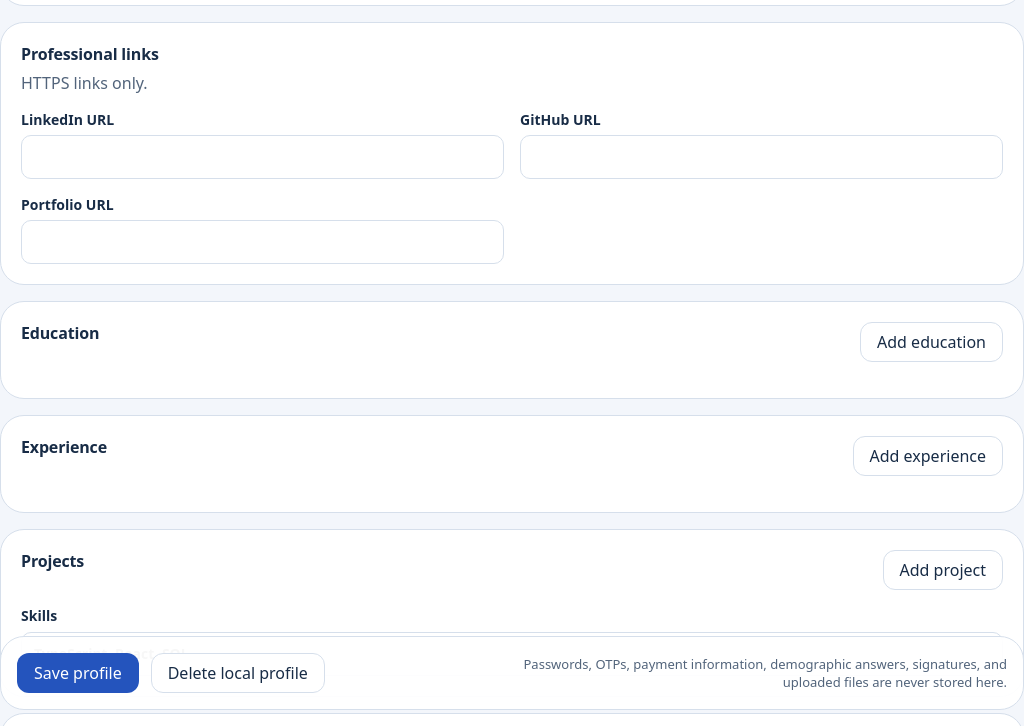
ProfilePage › adds structured education and skills without demographic fields
The width and height of the screenshot is (1024, 726).
(page scrolled)
Click the button "Add education" at (932, 342), box [860, 322, 1003, 362]
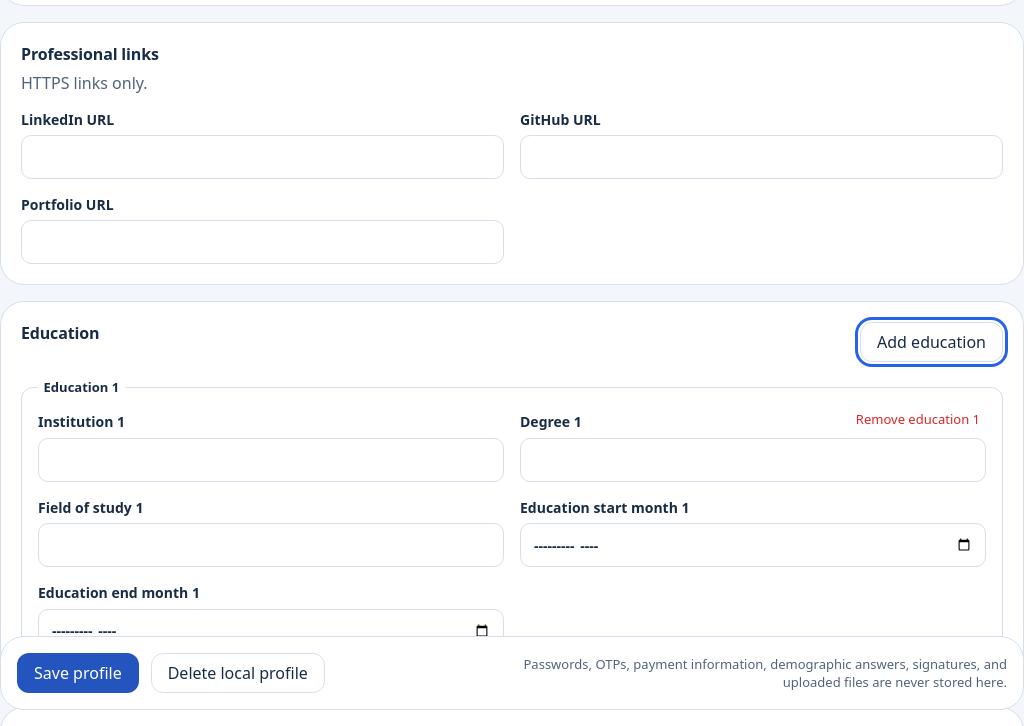
Type "HKU" into the field labelled "Institution 1" at (271, 460), box [38, 438, 504, 482]
(page scrolled)
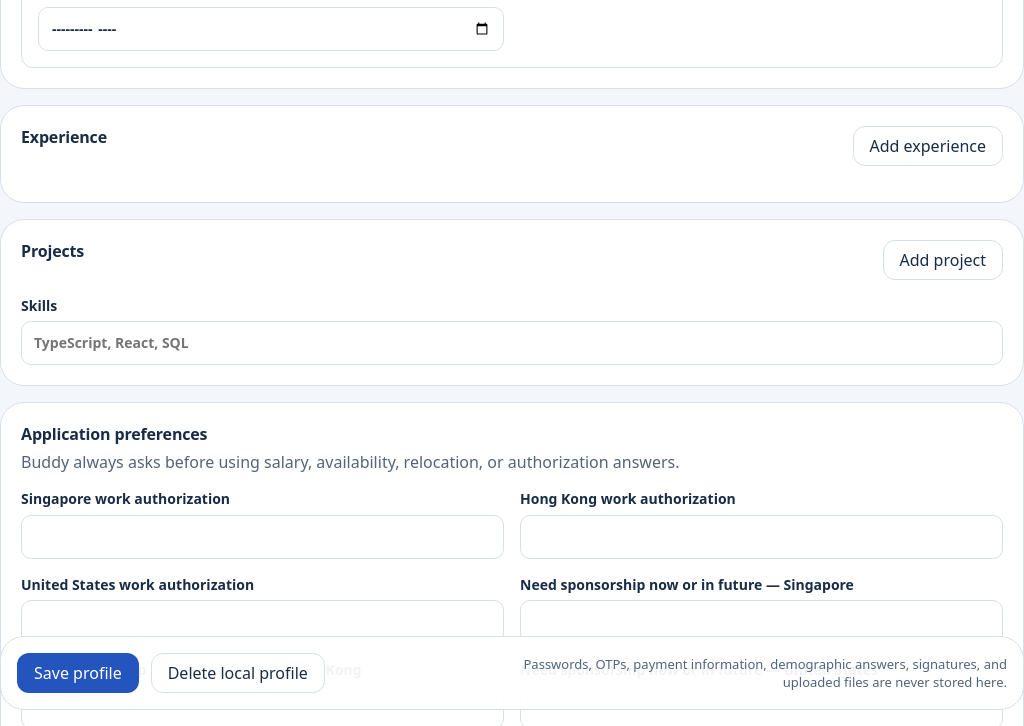
Type "TypeScript, React" into the field labelled "Skills" at (512, 343), box [21, 321, 1003, 365]
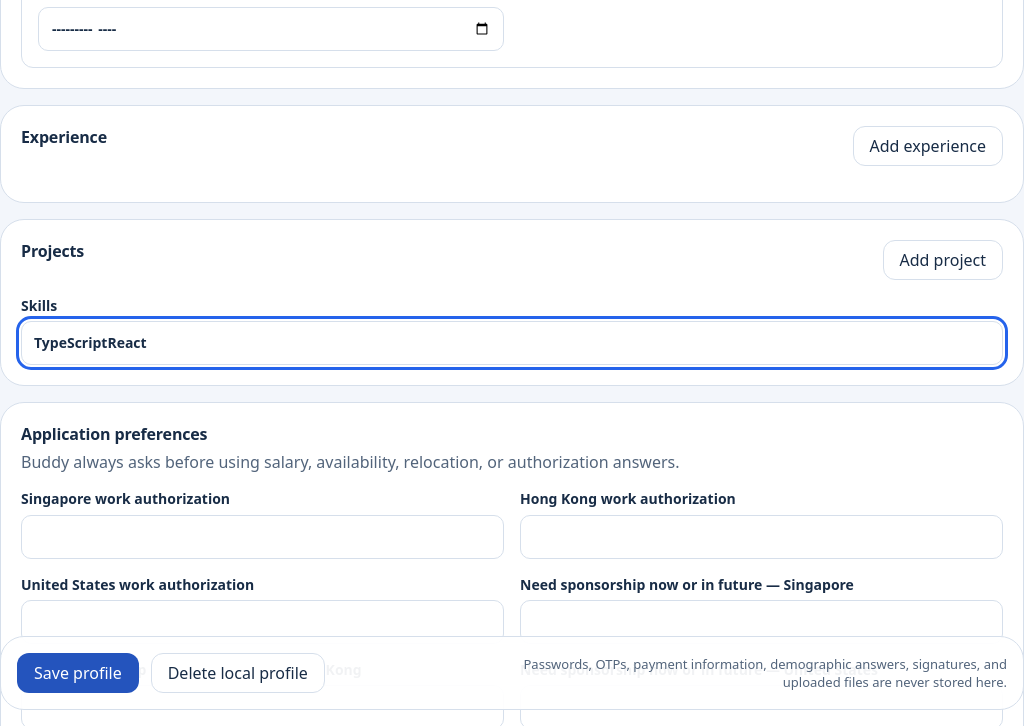
Click the button "Save profile" at (78, 673), box [17, 653, 139, 693]
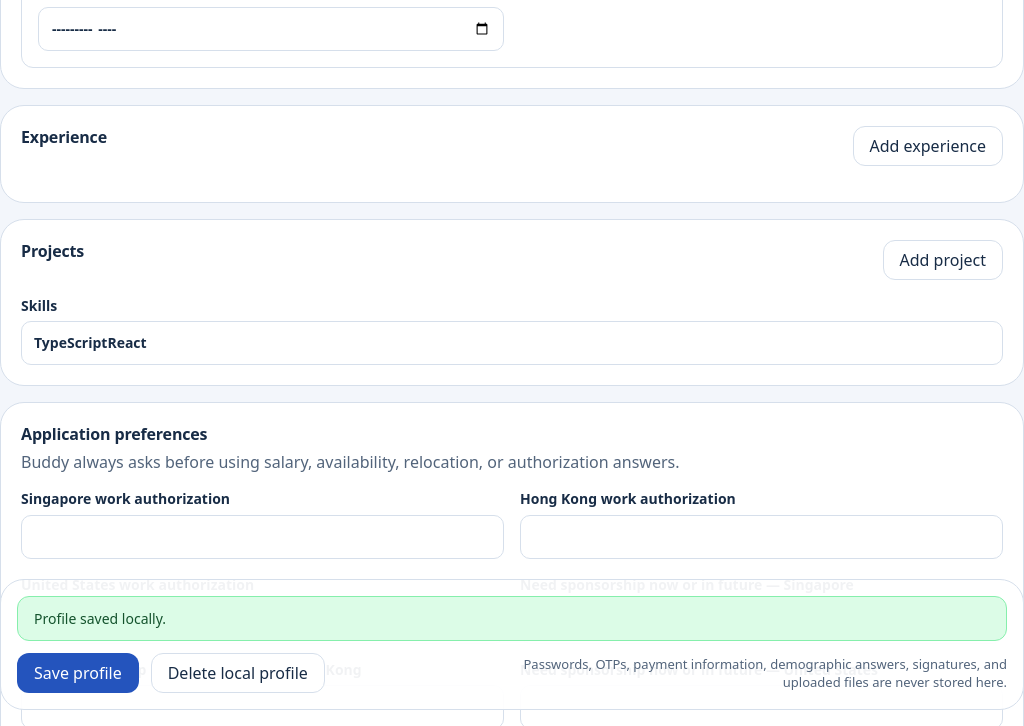
Expected: the text "Profile saved locally." is shown, [17, 596, 1007, 641]
